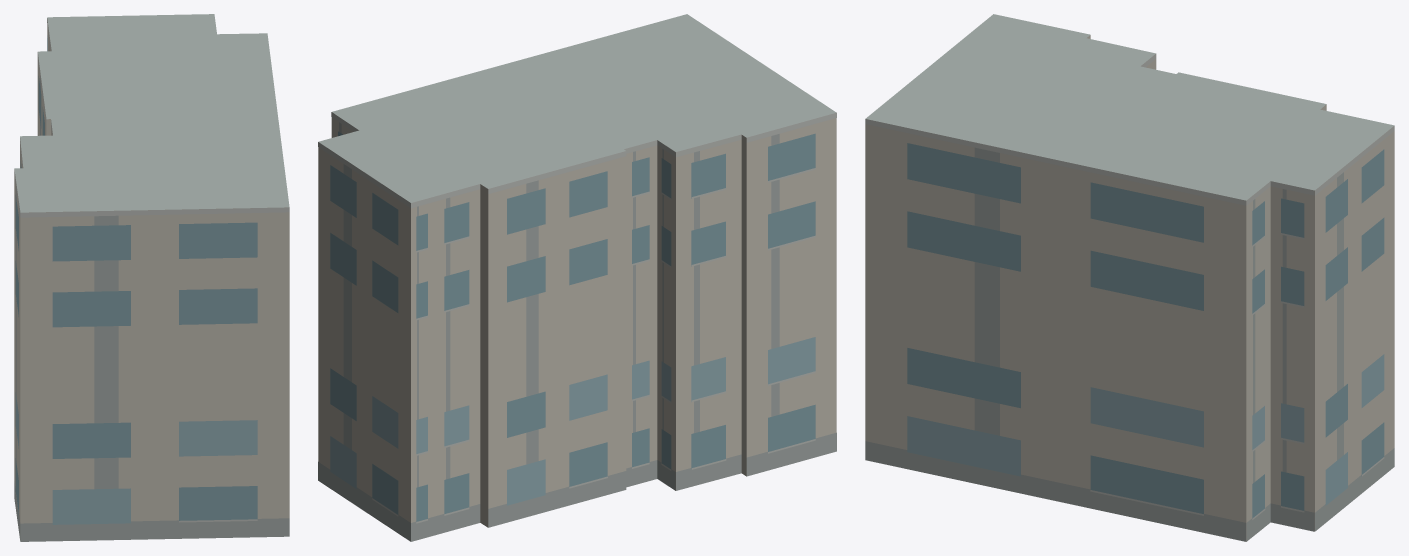
File: survey-upis-32554860.glb
3 views of the same model, side by side, from view 1: azimuth 30°, elevation 25°; view 2: azimuth 150°, elevation 25°; view 3: azimuth 270°, elevation 25° (orthographic). The views are drawn at different scales.
Visible parts, largest first — view 1: survey-upis-32554860.tmp; view 2: survey-upis-32554860.tmp; view 3: survey-upis-32554860.tmp.
Part boxes in pixels (x1,y1,x2,y2): survey-upis-32554860.tmp: (14,14,289,541); survey-upis-32554860.tmp: (318,14,836,541); survey-upis-32554860.tmp: (865,14,1394,541).
Bounding box in the file's own units: 18.66 × 15.9 × 22.36.
